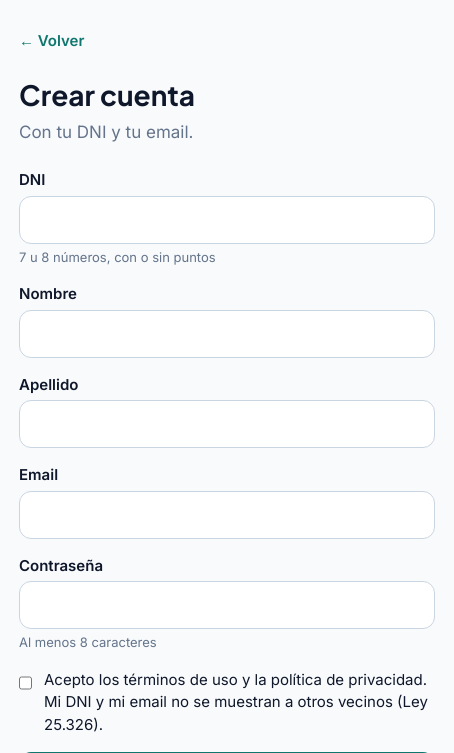
Registro (CU-01) › envía los datos normalizados y pide revisar el correo
The image size is (454, 753).
Type "30.123.456" into the field labelled "DNI" at (227, 220), box left=19, top=196, right=435, bottom=244
Type "Ana" into the field labelled "Nombre" at (227, 334), box left=19, top=310, right=435, bottom=358
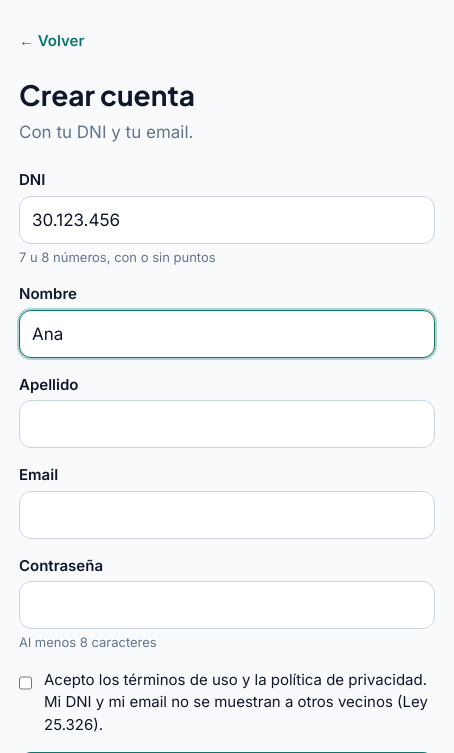
Type "Pérez" into the field labelled "Apellido" at (227, 424), box left=19, top=400, right=435, bottom=448
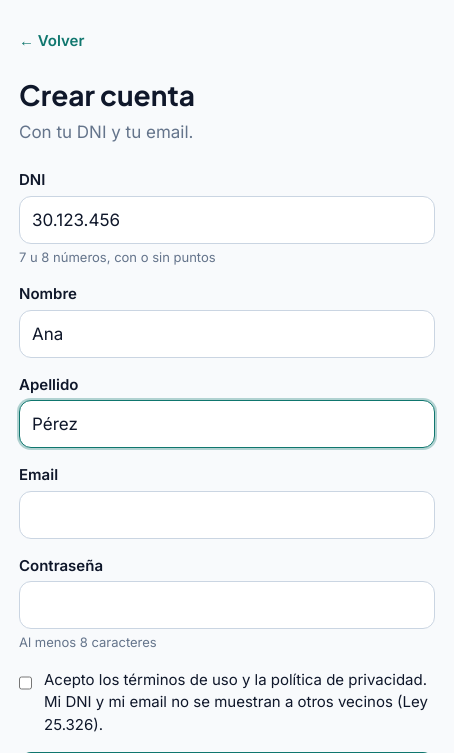
Type "Ana@Ejemplo.com" into the field labelled "Email" at (227, 514), box left=19, top=490, right=435, bottom=538
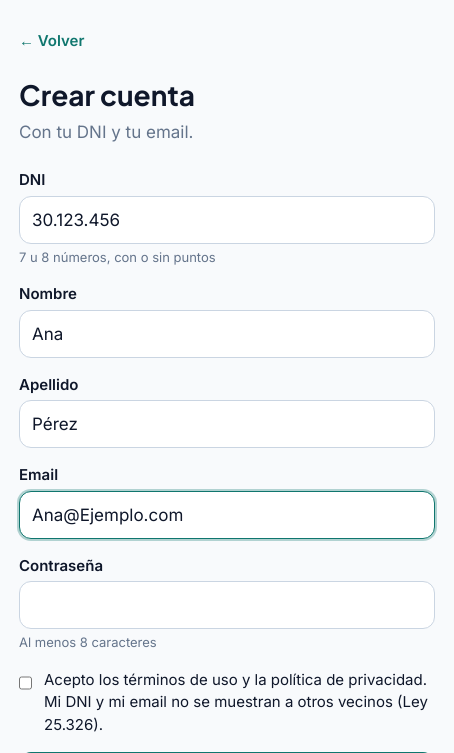
Type "una-clave-segura" into the password field labelled "Contraseña" at (227, 605), box left=19, top=581, right=435, bottom=629
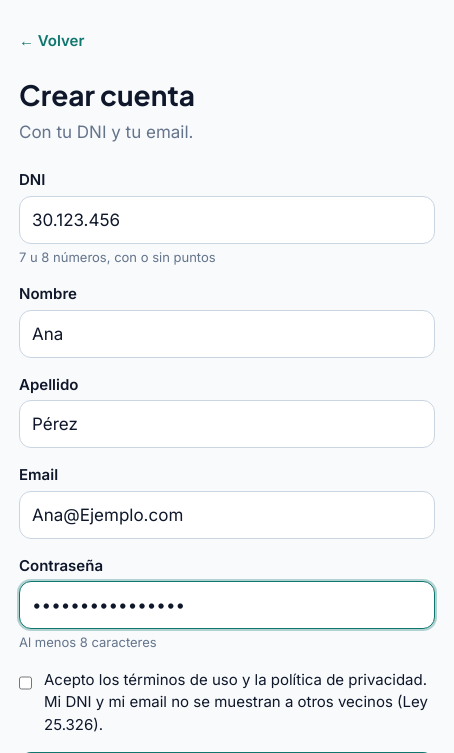
Click the checkbox at (26, 682), box left=19, top=672, right=32, bottom=692
(page scrolled)
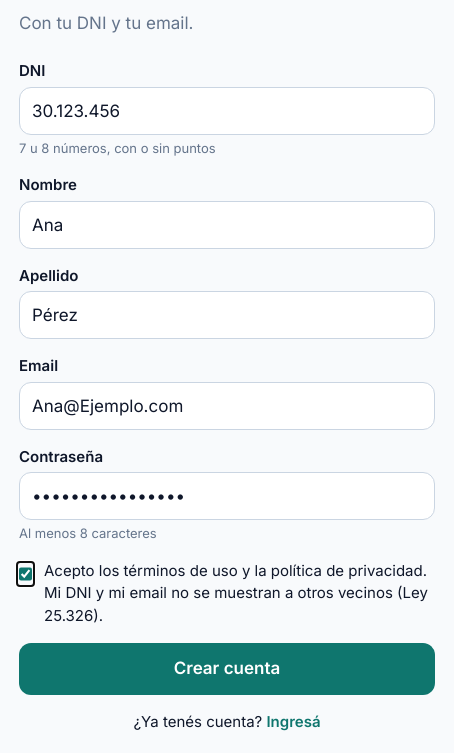
Click the button "Crear cuenta" at (227, 669), box left=19, top=643, right=435, bottom=695
(page scrolled)
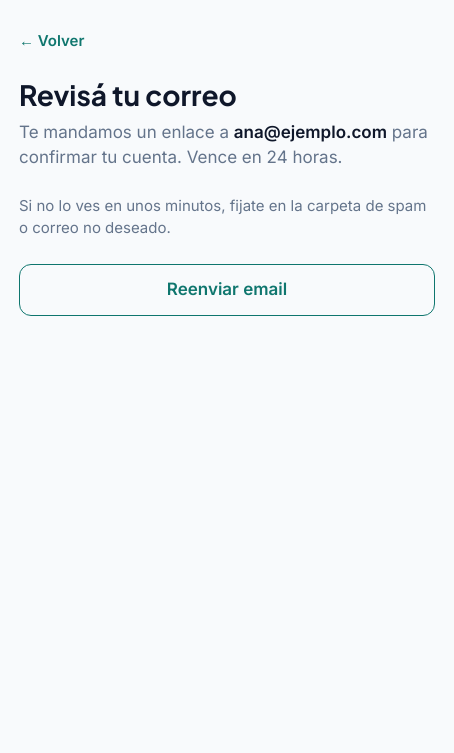
Now the heading "Revisá tu correo" is shown, box left=19, top=76, right=237, bottom=112
Now the text "ana@ejemplo.com" is shown, box left=234, top=122, right=387, bottom=142
